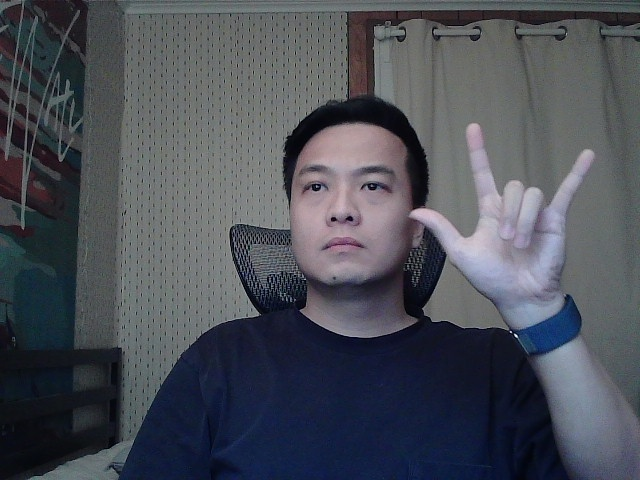I Love You: (405, 116, 608, 332)
